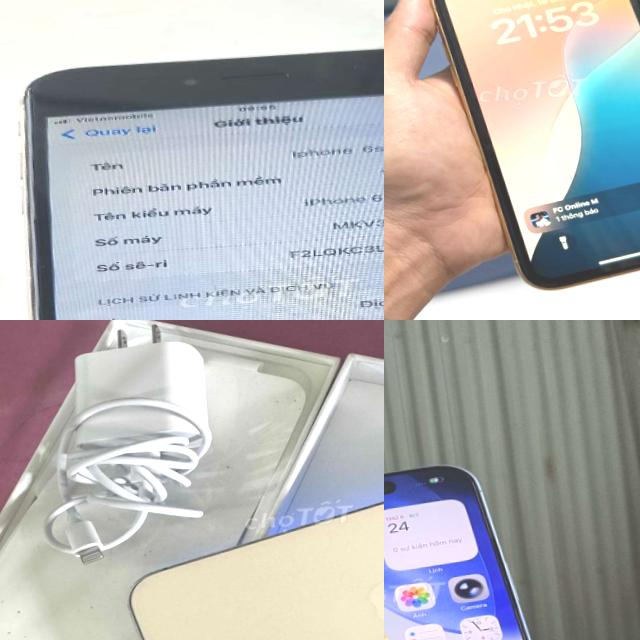gen_14: (112, 443, 384, 640)
gen_17: (384, 451, 598, 640)
gen_6: (0, 27, 384, 320)
gen_x_xs: (433, 0, 640, 288)
